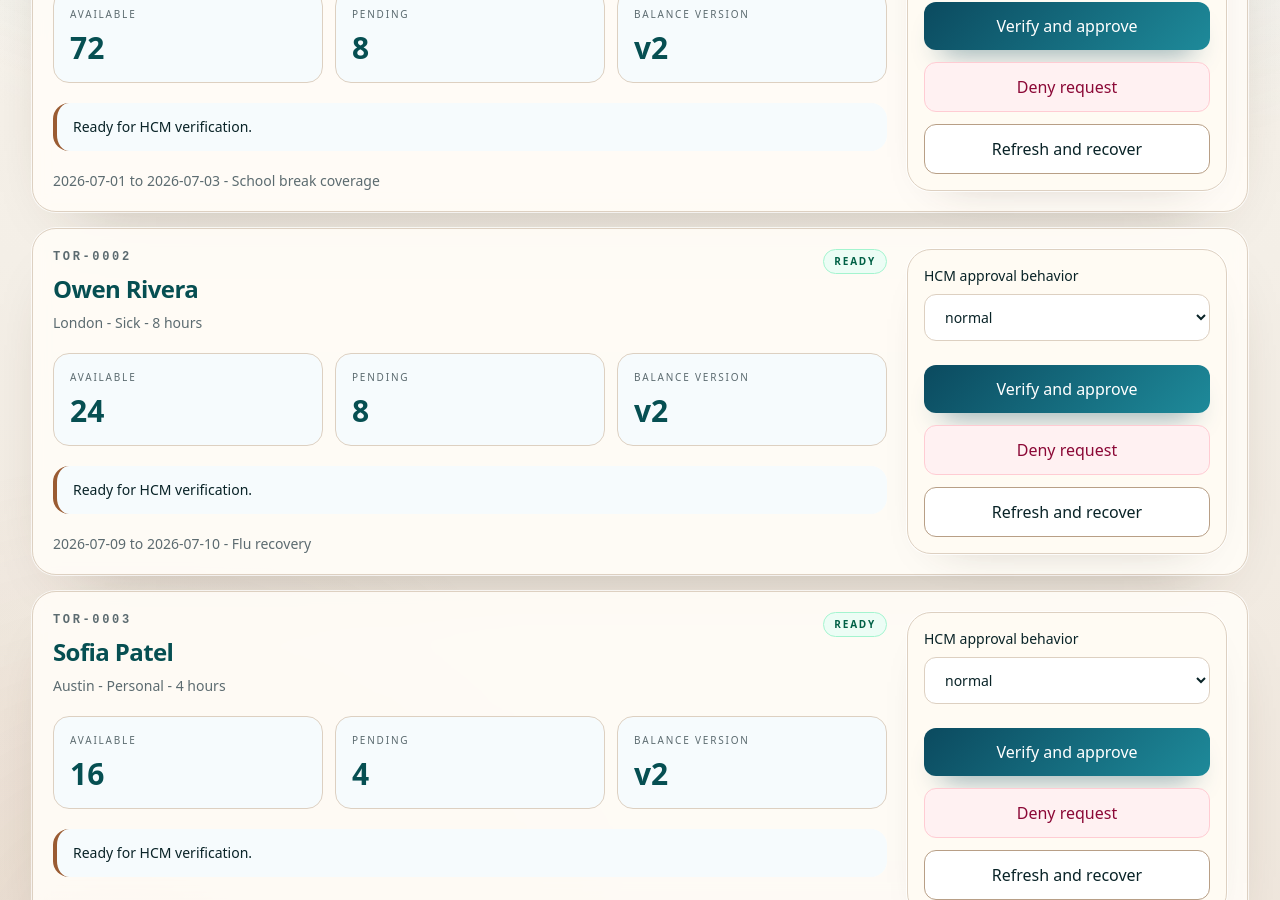
Scenario: ManagerView HCM interactions › succeeds on denial and releases the pending balance
This screenshot has width=1280, height=900.
(page scrolled)
Click the button "Deny request" in the row of "24".
click(1067, 450)  # box [924, 425, 1210, 475]
(page scrolled)
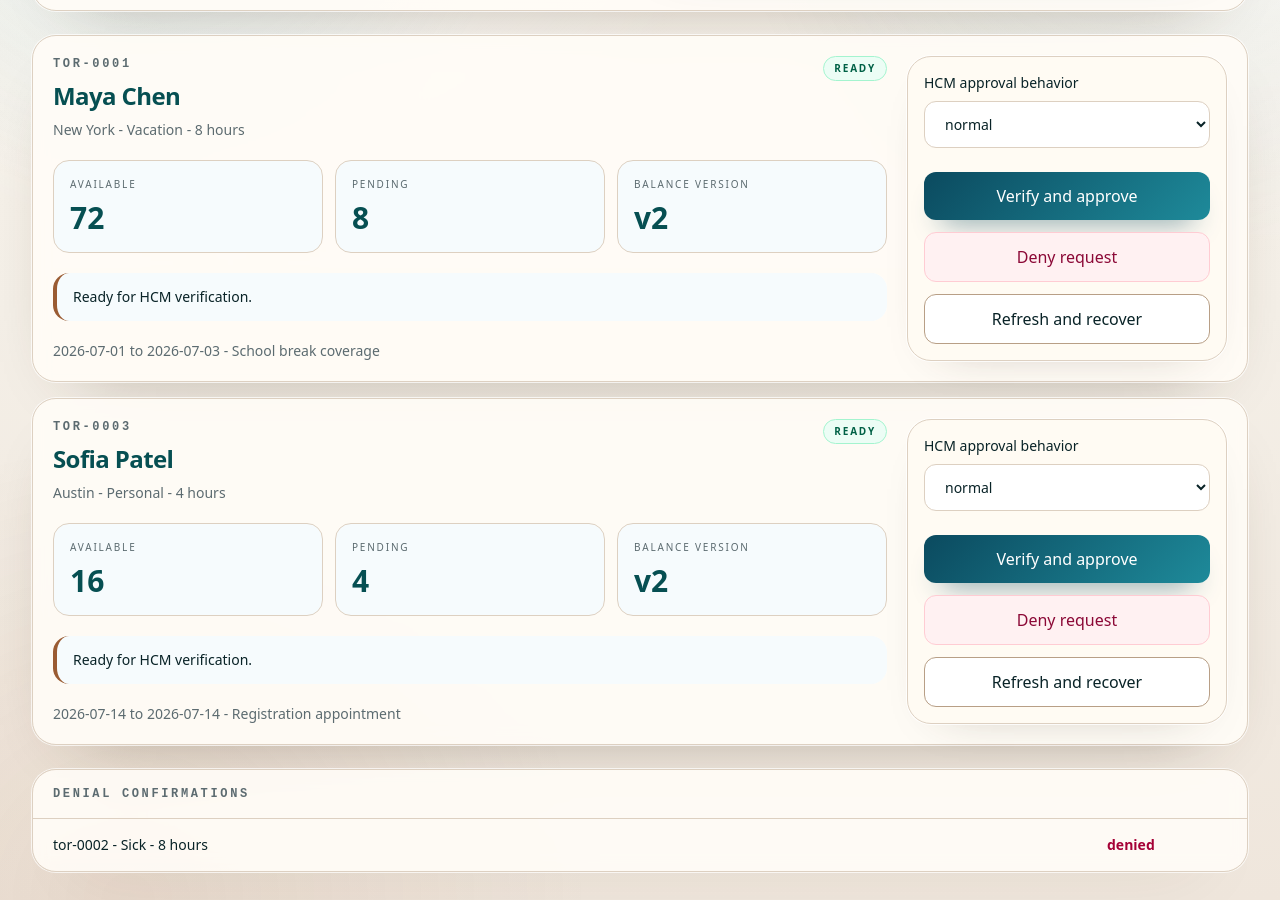
expect the text "tor-0002 - Sick - 8 hours" is shown: met, box [53, 835, 208, 854]
expect the text "denied" is shown: met, box [1107, 835, 1155, 854]
